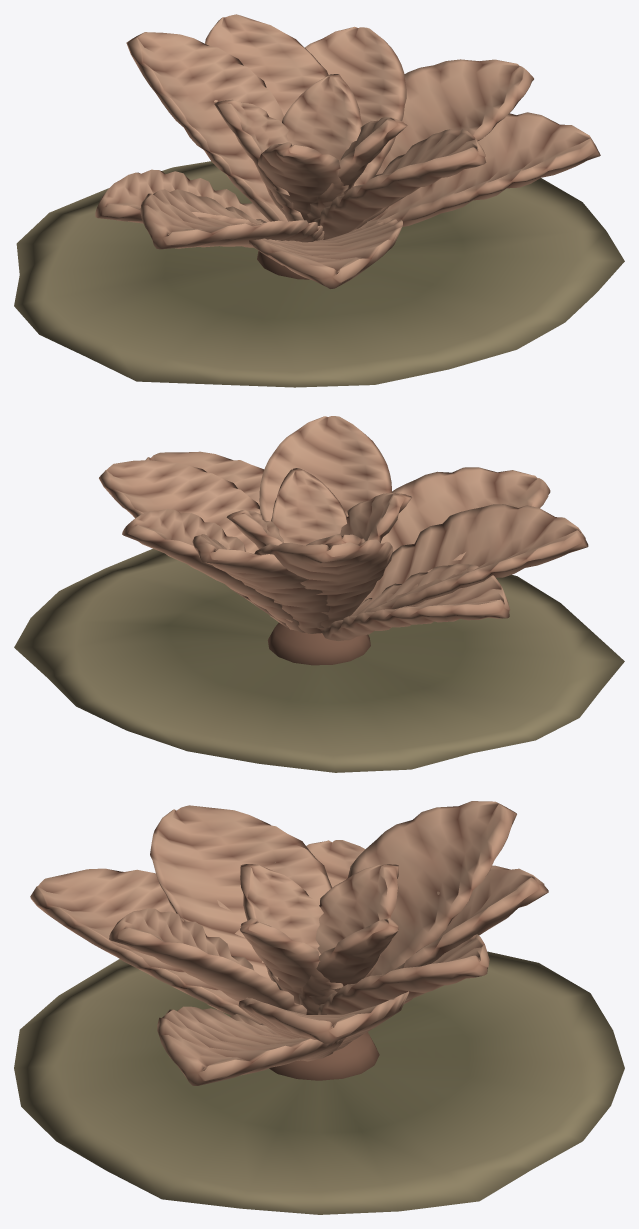
Rendered from Bradgatia.fbx.
3 renders of one model, top to bottom at view 1: azimuth 30°, elevation 25°; view 2: azimuth 150°, elevation 25°; view 3: azimuth 270°, elevation 25°, orthographic. The views are drawn at different scales.
Visible parts, largest first — view 1: Bradgatia; view 2: Bradgatia; view 3: Bradgatia.
Part boxes in pixels (<box>): Bradgatia: <box>14,14,624,387</box>; Bradgatia: <box>14,416,624,772</box>; Bradgatia: <box>14,801,624,1214</box>.
Size of the model in its own units: 1.5 by 0.5163 by 1.32.
